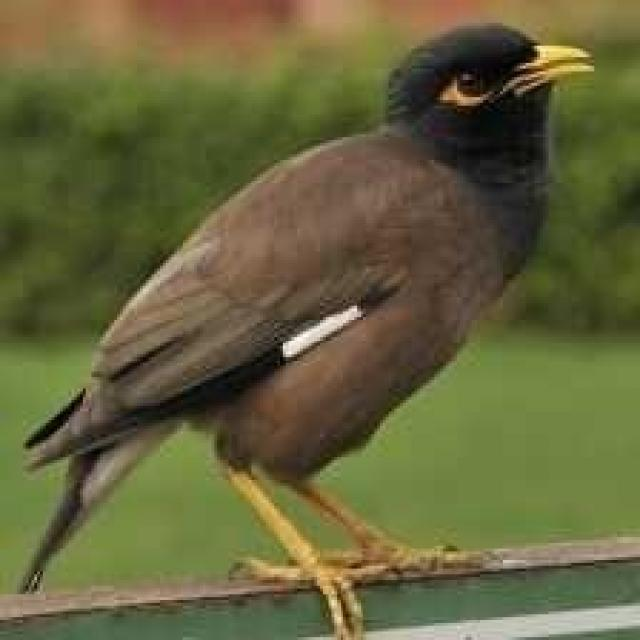bird: (18, 16, 599, 640)
